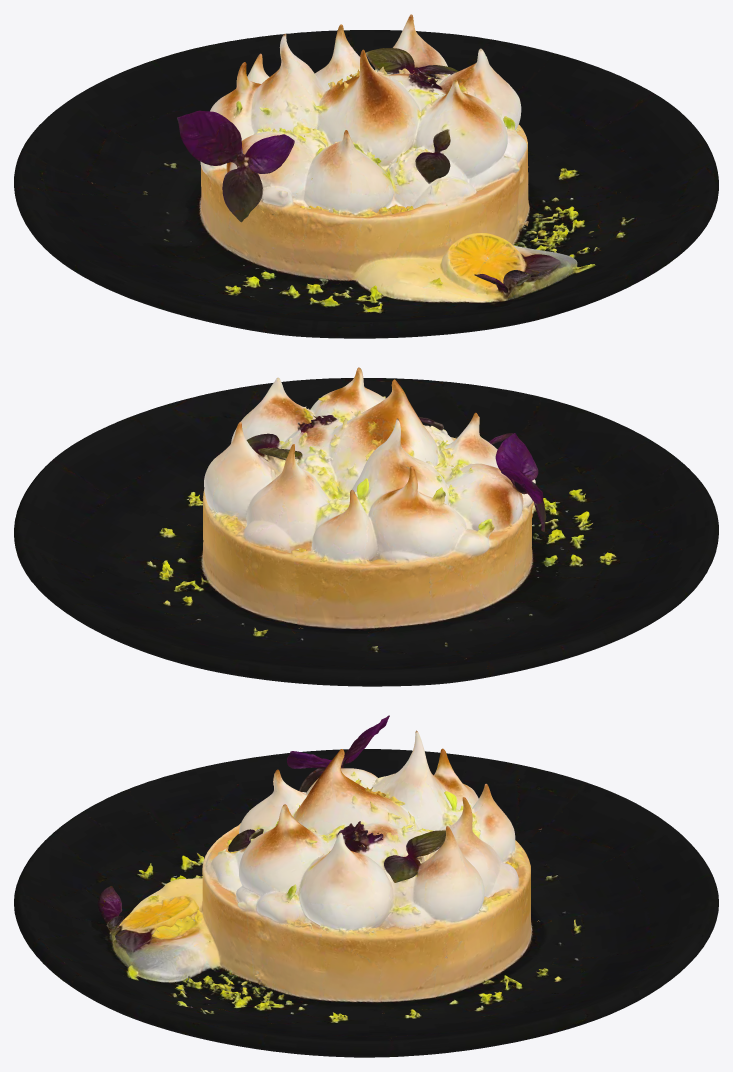
Rendered from tarte-citron-basilic-meshopt-2ab5b779.glb.
3 views of the same model, one above another, from view 1: azimuth 30°, elevation 25°; view 2: azimuth 150°, elevation 25°; view 3: azimuth 270°, elevation 25° (orthographic).
Size of the model in its own units: 1.9 by 0.6521 by 1.9.
1 material, 1 textured.
